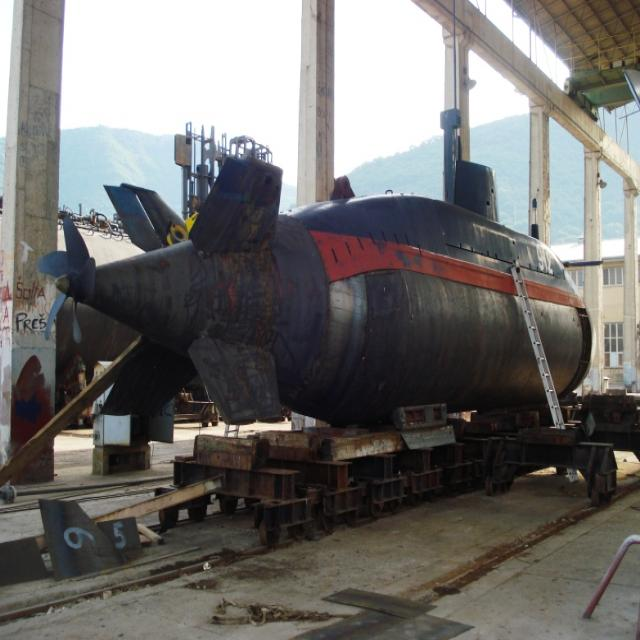submarine: (44, 155, 605, 430)
